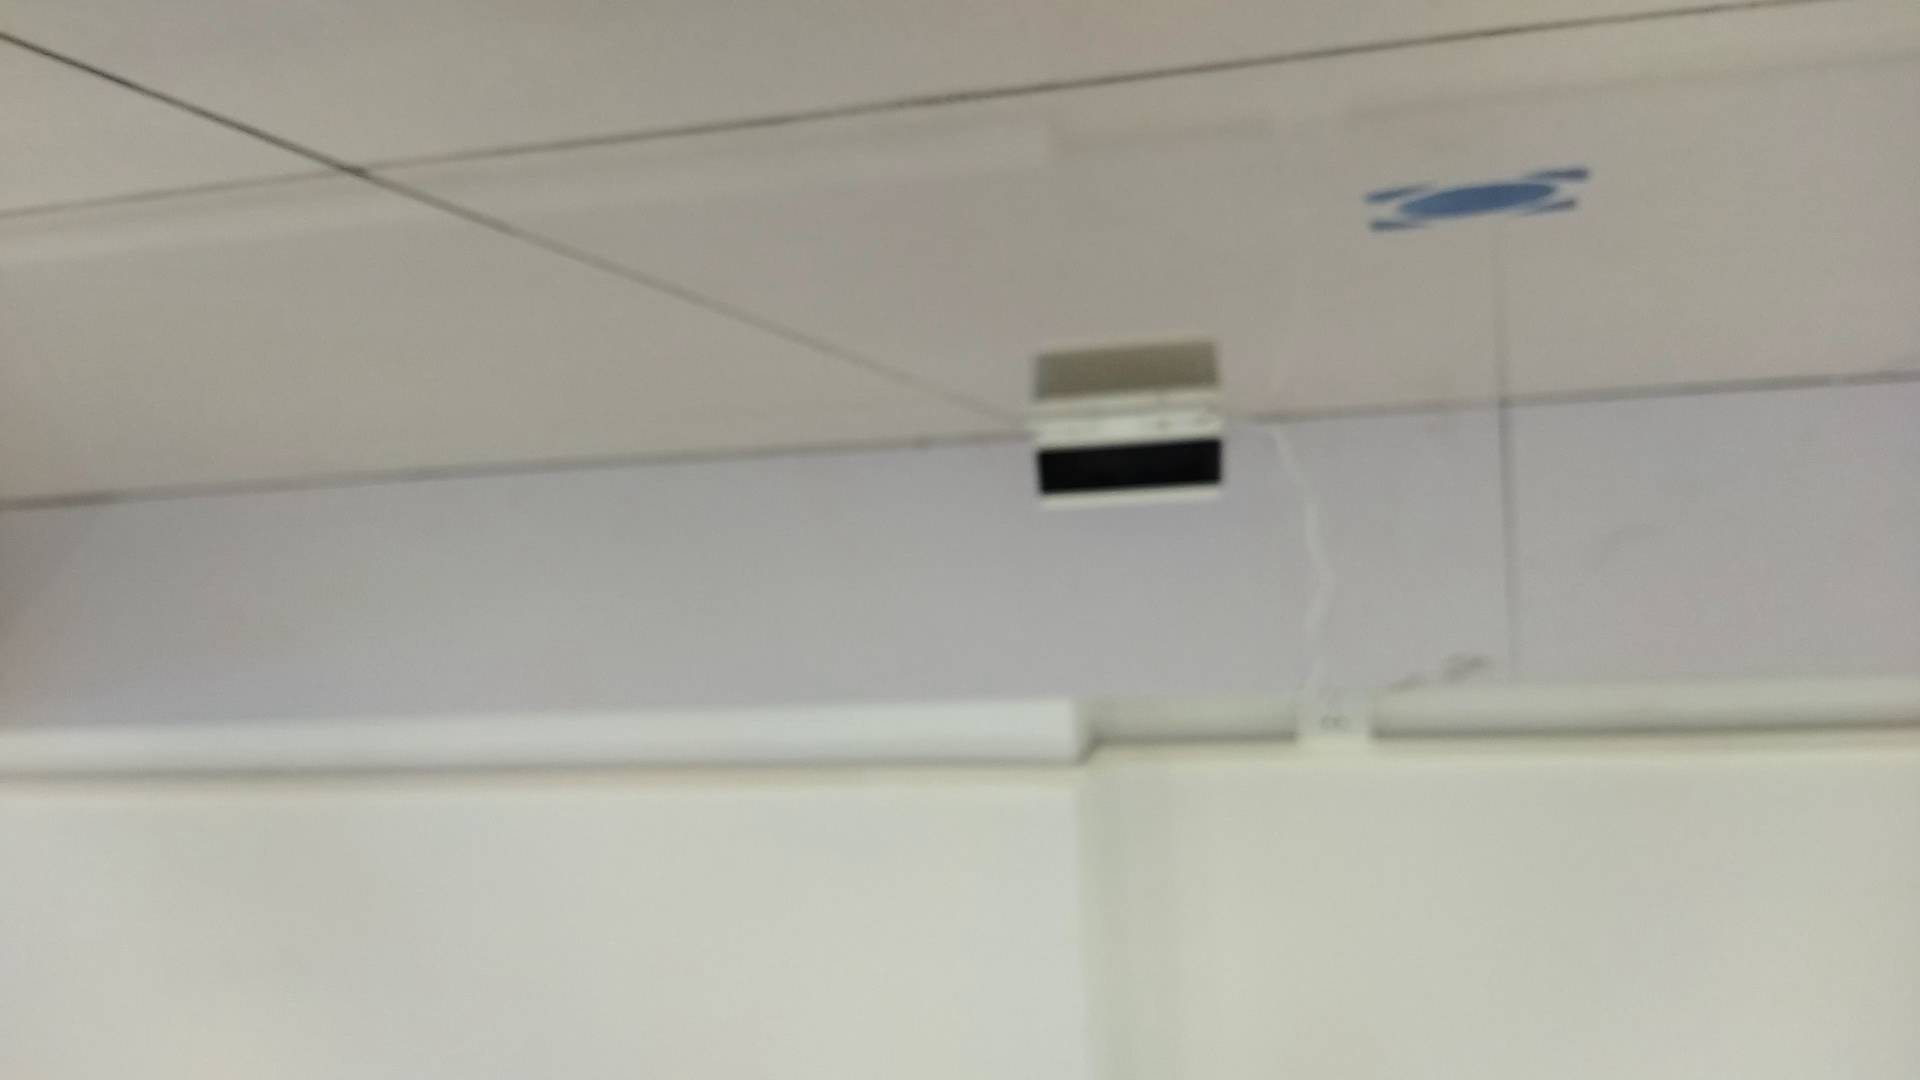recharge seat: (1021, 385, 1237, 509)
